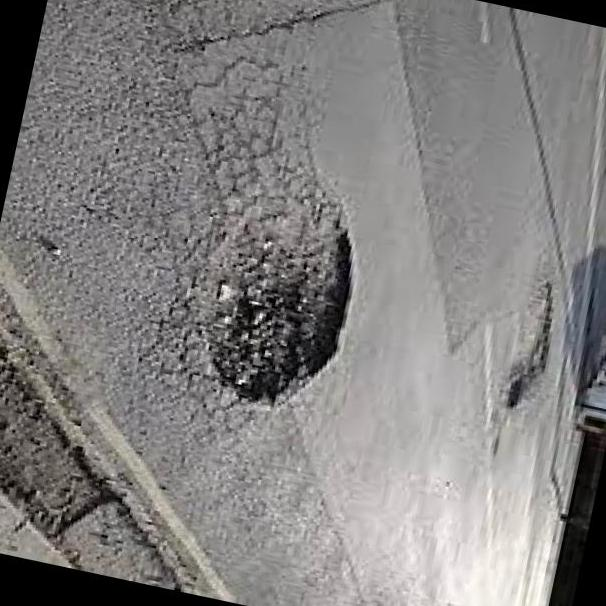pothole: (158, 142, 386, 446)
